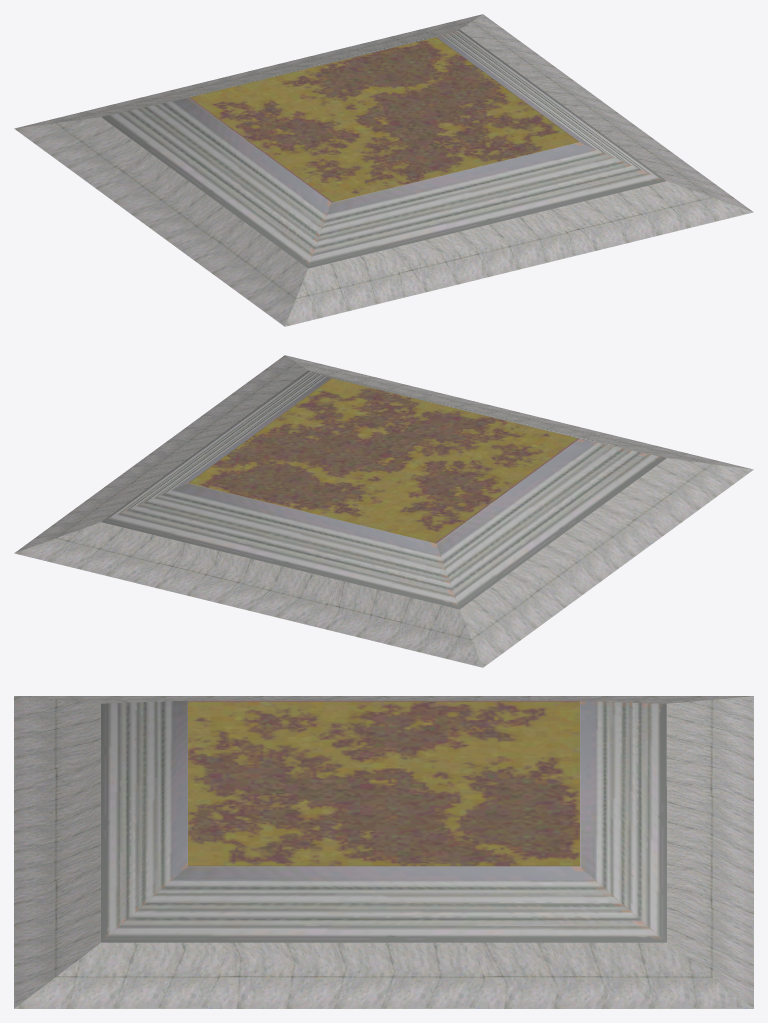
File: ply_corl_garden_med_s01_l2.fbx
3 renders of one model, top to bottom at view 1: azimuth 30°, elevation 25°; view 2: azimuth 150°, elevation 25°; view 3: azimuth 270°, elevation 25°, orthographic. The views are drawn at different scales.
Parts seen in each view (by area): view 1: mesh_node; view 2: mesh_node; view 3: mesh_node.
Boxes of the visible parts, bbox=[...] form: mesh_node: bbox=[14, 14, 753, 326]; mesh_node: bbox=[14, 355, 753, 667]; mesh_node: bbox=[14, 696, 753, 1008].
Size of the model in its own units: 34 by 3.5 by 34.
